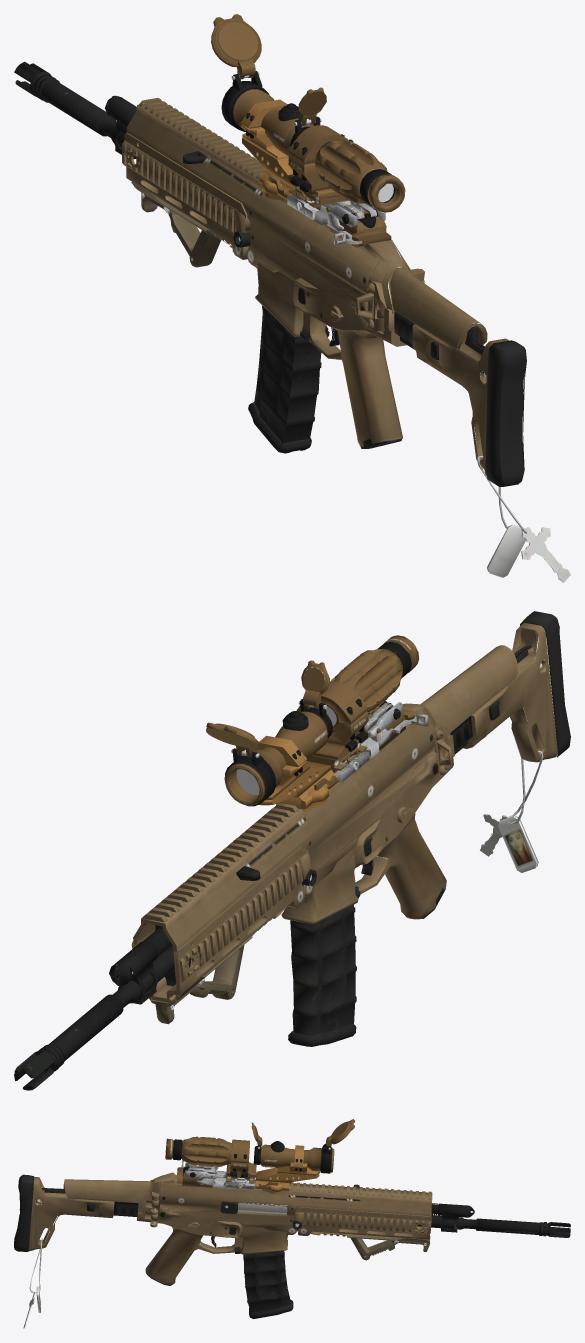
File: gun-desert.glb
3 views of the same model, one above another, from view 1: azimuth 30°, elevation 25°; view 2: azimuth 150°, elevation 25°; view 3: azimuth 270°, elevation 25° (orthographic). The views are drawn at different scales.
Visible parts, largest first — view 1: Object_4, Object_2, Object_7; view 2: Object_4, Object_2, Object_7; view 3: Object_4, Object_2, Object_7.
Boxes of the visible parts, <box> form: Object_4: <box>14,61,570,582</box>; Object_2: <box>211,14,405,247</box>; Object_7: <box>131,182,220,267</box>; Object_4: <box>14,611,570,1090</box>; Object_2: <box>206,635,428,812</box>; Object_7: <box>149,936,252,1024</box>; Object_4: <box>14,1172,570,1328</box>; Object_2: <box>165,1119,355,1194</box>; Object_7: <box>347,1235,430,1260</box>.
Size of the model in its own units: 0.1074 by 0.3965 by 0.9998.
3 materials, 3 textured.
